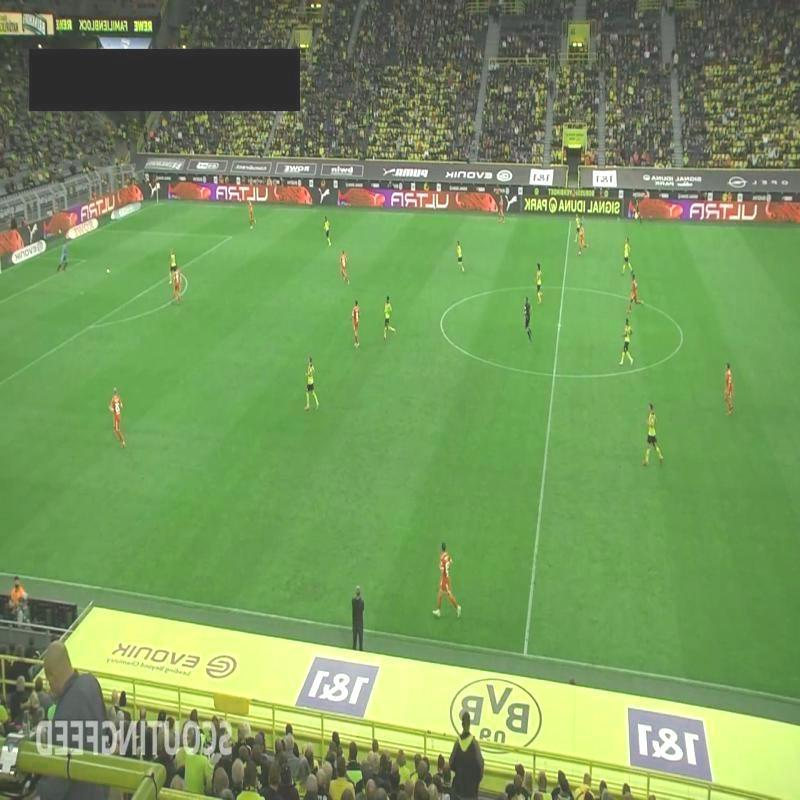1: (151, 197, 165, 211)
10: (172, 262, 186, 276)
11: (80, 317, 100, 337)
13: (564, 211, 578, 225)
14: (554, 279, 572, 297)
15: (546, 366, 562, 382)
16: (516, 643, 534, 665)
2: (92, 224, 106, 238)
3: (32, 251, 46, 264)
7: (78, 252, 92, 269)
9: (224, 229, 240, 246)
c: (432, 305, 450, 331), (675, 329, 692, 349)
